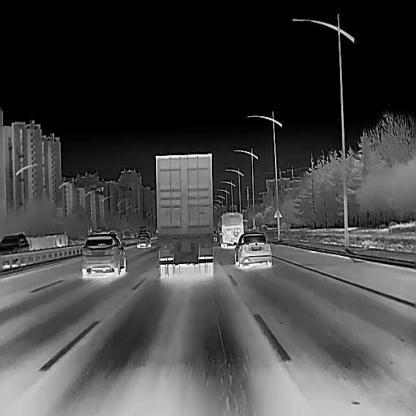car: (155, 153, 213, 275), (81, 231, 126, 275), (233, 232, 271, 268), (0, 232, 29, 266), (218, 211, 243, 248), (136, 232, 150, 247)
